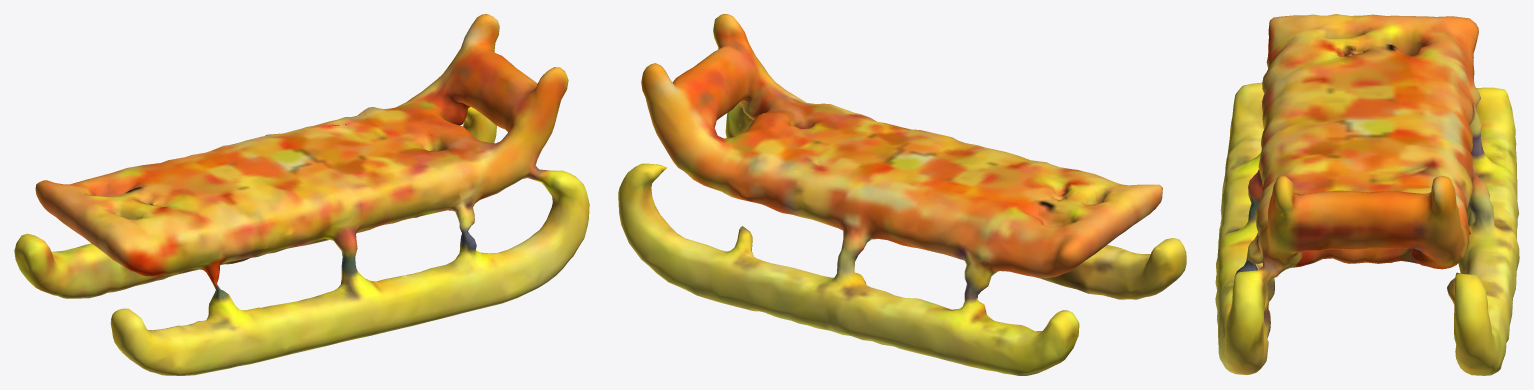
3 renders of one model, left to right at view 1: azimuth 30°, elevation 25°; view 2: azimuth 150°, elevation 25°; view 3: azimuth 270°, elevation 25°, orthographic. The views are drawn at different scales.
Parts seen in each view (by area): view 1: Mesh1; view 2: Mesh1; view 3: Mesh1.
Part boxes in pixels (left/top/right/bottom): Mesh1: left=14, top=14, right=589, bottom=375; Mesh1: left=618, top=14, right=1186, bottom=375; Mesh1: left=1215, top=14, right=1519, bottom=375.
Size of the model in its own units: 1.2 by 0.4935 by 0.597.
Materials: 1 (1 with a texture image).
